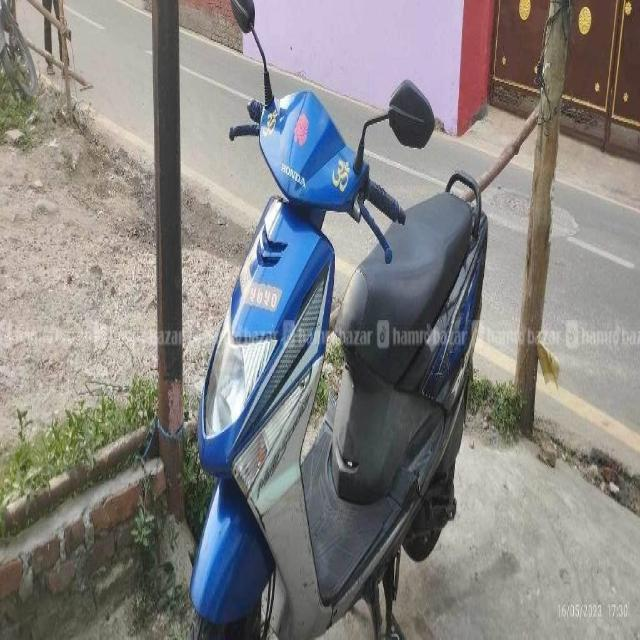License-plate: (239, 238, 282, 326)
